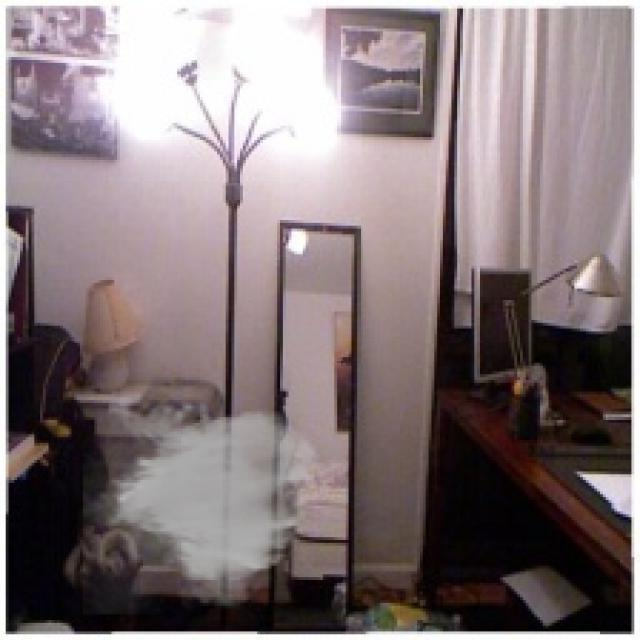Smoke: (83, 386, 323, 614)
